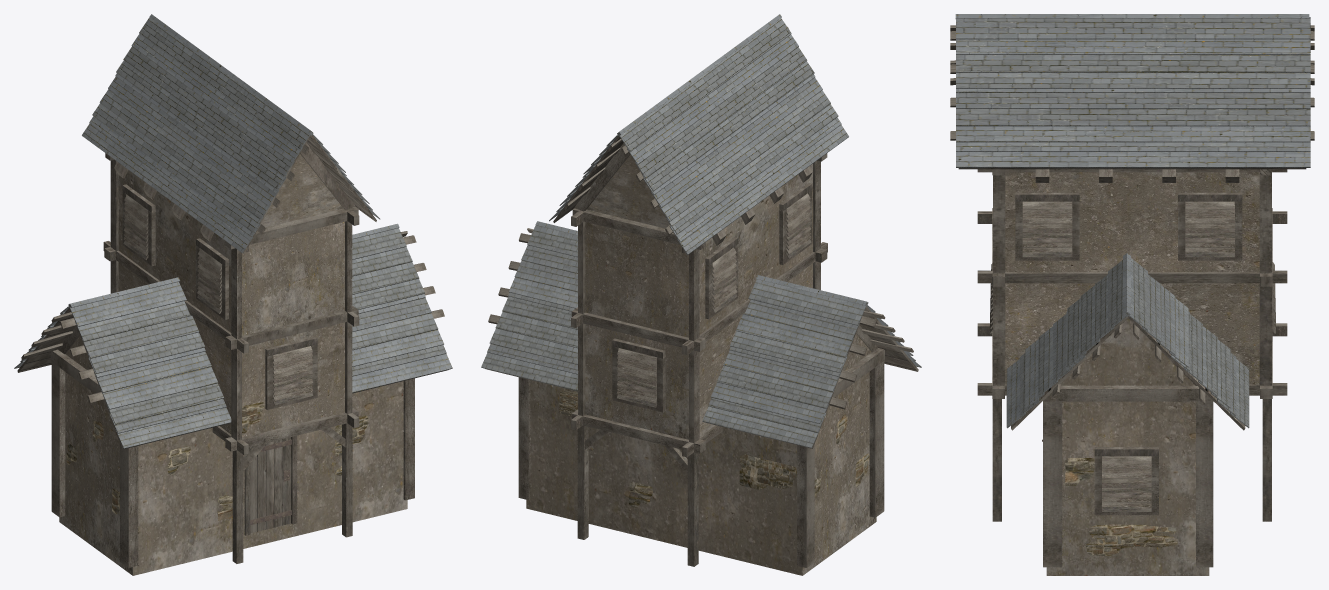
The model's file is stone_house.glb.
The picture shows the model from 3 angles, left to right: view 1: azimuth 30°, elevation 25°; view 2: azimuth 150°, elevation 25°; view 3: azimuth 270°, elevation 25°; orthographic projection. The views are drawn at different scales.
Parts seen in each view (by area): view 1: StoneHouse_roof_0, StoneHouse_main wall_0, StoneHouse_floor_0, StoneHouse_Material_0; view 2: StoneHouse_main wall_0, StoneHouse_roof_0, StoneHouse_floor_0, StoneHouse_Material_0; view 3: StoneHouse_roof_0, StoneHouse_main wall_0, StoneHouse_floor_0, StoneHouse_Material_0.
Boxes of the visible parts, x1,y1,x2,y2 form: StoneHouse_roof_0: (14, 14, 452, 448); StoneHouse_main wall_0: (59, 154, 407, 575); StoneHouse_floor_0: (17, 135, 448, 567); StoneHouse_Material_0: (66, 402, 368, 520); StoneHouse_main wall_0: (526, 154, 876, 575); StoneHouse_roof_0: (481, 14, 921, 448); StoneHouse_floor_0: (485, 27, 918, 567); StoneHouse_Material_0: (559, 390, 869, 507); StoneHouse_roof_0: (955, 14, 1310, 428); StoneHouse_main wall_0: (1005, 172, 1259, 575); StoneHouse_floor_0: (950, 25, 1314, 567); StoneHouse_Material_0: (1065, 458, 1177, 555).
Size of the model in its own units: 8.72 by 10.38 by 7.02.
Materials: 5 (5 with a texture image).
